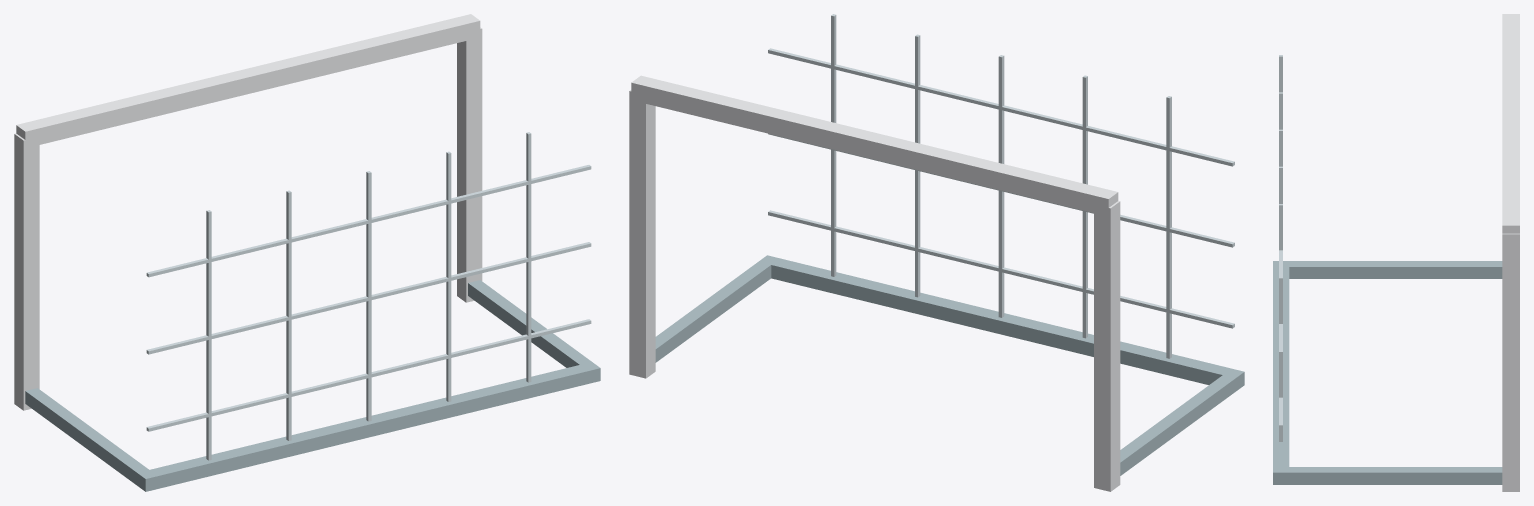
The model's file is sport-goal.gltf.
The picture shows the model from 3 angles, left to right: view 1: azimuth 30°, elevation 25°; view 2: azimuth 150°, elevation 25°; view 3: azimuth 270°, elevation 25°; orthographic projection. The views are drawn at different scales.
Parts seen in each view (by area): view 1: Mesh 0, Mesh 5, Mesh 1, Mesh 3, Mesh 2, Mesh 4, Mesh 12, Mesh 13, Mesh 11, Mesh 6, Mesh 8, Mesh 7 (+2 smaller); view 2: Mesh 0, Mesh 5, Mesh 1, Mesh 3, Mesh 2, Mesh 4, Mesh 13, Mesh 11, Mesh 8, Mesh 6, Mesh 7, Mesh 10 (+2 smaller); view 3: Mesh 3, Mesh 4, Mesh 0, Mesh 2, Mesh 5, Mesh 10.
Part boxes in pixels (bbox=[...]): Mesh 0: bbox=[16, 14, 480, 148]; Mesh 5: bbox=[137, 364, 600, 491]; Mesh 1: bbox=[14, 133, 39, 410]; Mesh 3: bbox=[457, 27, 482, 302]; Mesh 2: bbox=[25, 388, 153, 488]; Mesh 4: bbox=[468, 280, 595, 367]; Mesh 12: bbox=[146, 242, 591, 354]; Mesh 13: bbox=[146, 165, 591, 277]; Mesh 11: bbox=[146, 319, 591, 431]; Mesh 6: bbox=[206, 210, 211, 460]; Mesh 8: bbox=[366, 171, 371, 421]; Mesh 7: bbox=[286, 190, 291, 440]; Mesh 0: bbox=[631, 75, 1118, 216]; Mesh 5: bbox=[763, 255, 1244, 387]; Mesh 1: bbox=[1094, 201, 1120, 491]; Mesh 3: bbox=[629, 90, 655, 378]; Mesh 2: bbox=[1120, 372, 1240, 475]; Mesh 4: bbox=[655, 258, 774, 362]; Mesh 13: bbox=[768, 48, 1234, 166]; Mesh 11: bbox=[768, 210, 1234, 328]; Mesh 8: bbox=[998, 55, 1004, 317]; Mesh 6: bbox=[1166, 96, 1171, 358]; Mesh 7: bbox=[1082, 75, 1087, 338]; Mesh 10: bbox=[831, 14, 836, 276]; Mesh 3: bbox=[1502, 233, 1519, 491]; Mesh 4: bbox=[1281, 467, 1502, 484]; Mesh 0: bbox=[1502, 14, 1519, 233]; Mesh 2: bbox=[1283, 261, 1502, 278]; Mesh 5: bbox=[1273, 261, 1289, 484]; Mesh 10: bbox=[1279, 204, 1282, 441].
Size of the model in its own units: 3.73 by 2.16 by 1.82.
